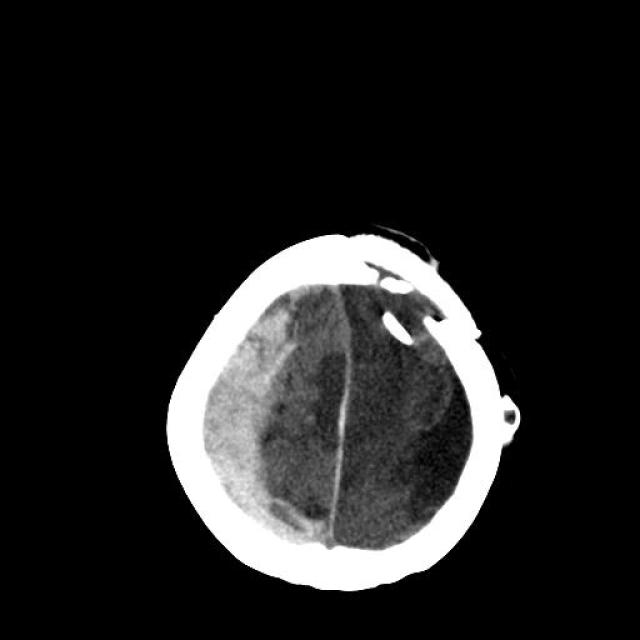Subdural: (178, 283, 322, 555)
